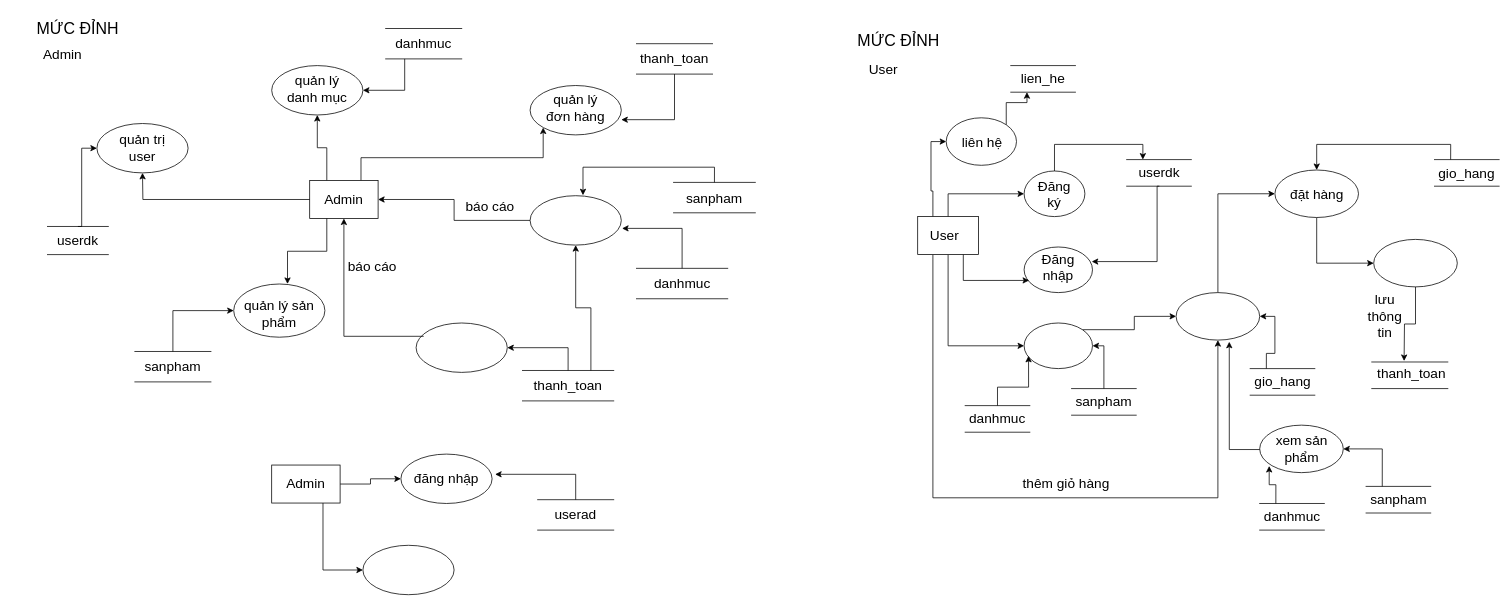
Some shapes in this 1512 by 608 pixel diagram are drawn without their labels. The centre of each missing label's shape, as x and y in pixels:
"giỏ hàng" belongs at [1217,316].
"quản lý doanh thu" belongs at [461,347].
"quản lý tồn kho" belongs at [575,220].
"thanh toán" belongs at [1415,263].
"Tìm kiếm" belongs at [1057,345].
"đăng xuất" belongs at [408,570].
